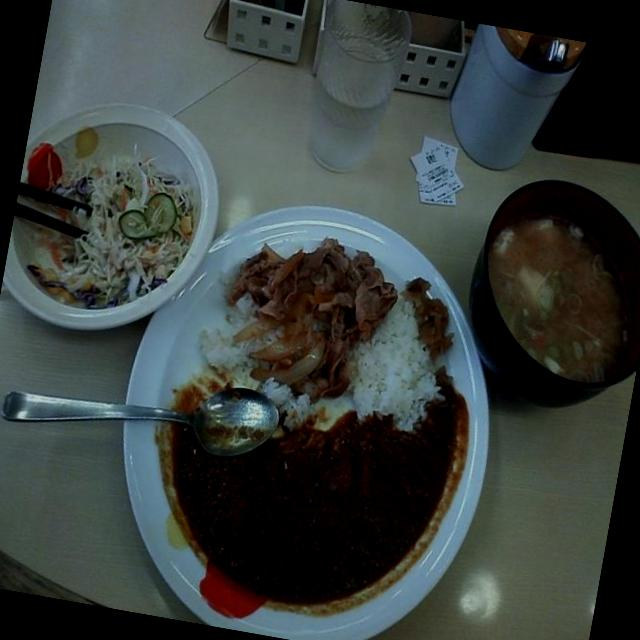Beef Curry: (119, 304, 487, 640)
